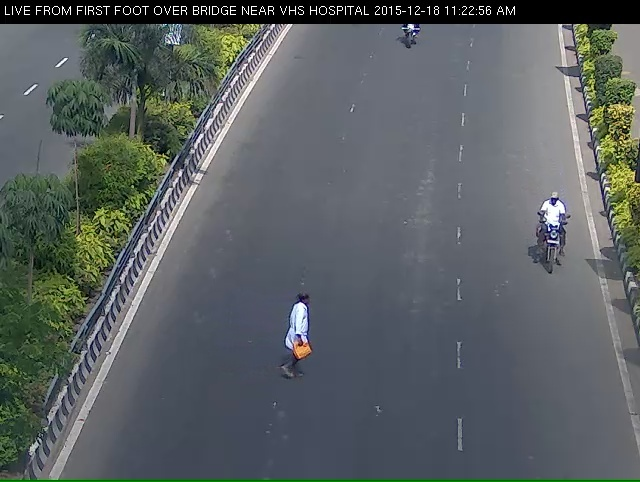Person: (531, 200, 576, 294), (288, 283, 327, 379)
